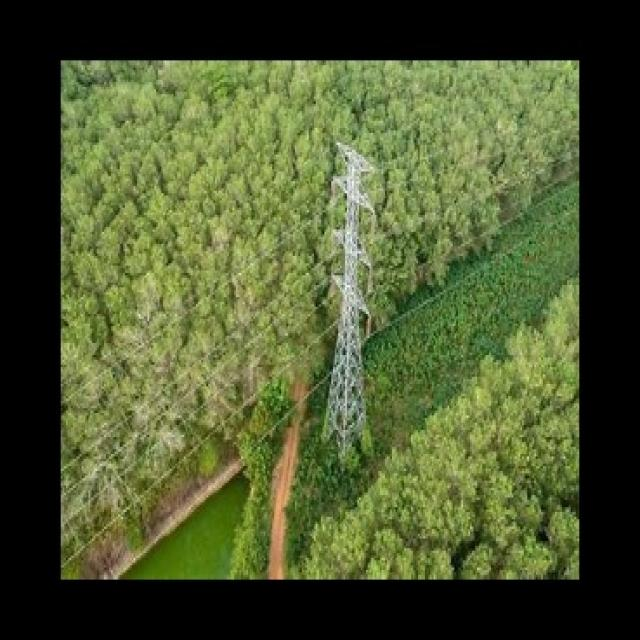utility poles: (318, 132, 387, 453)
